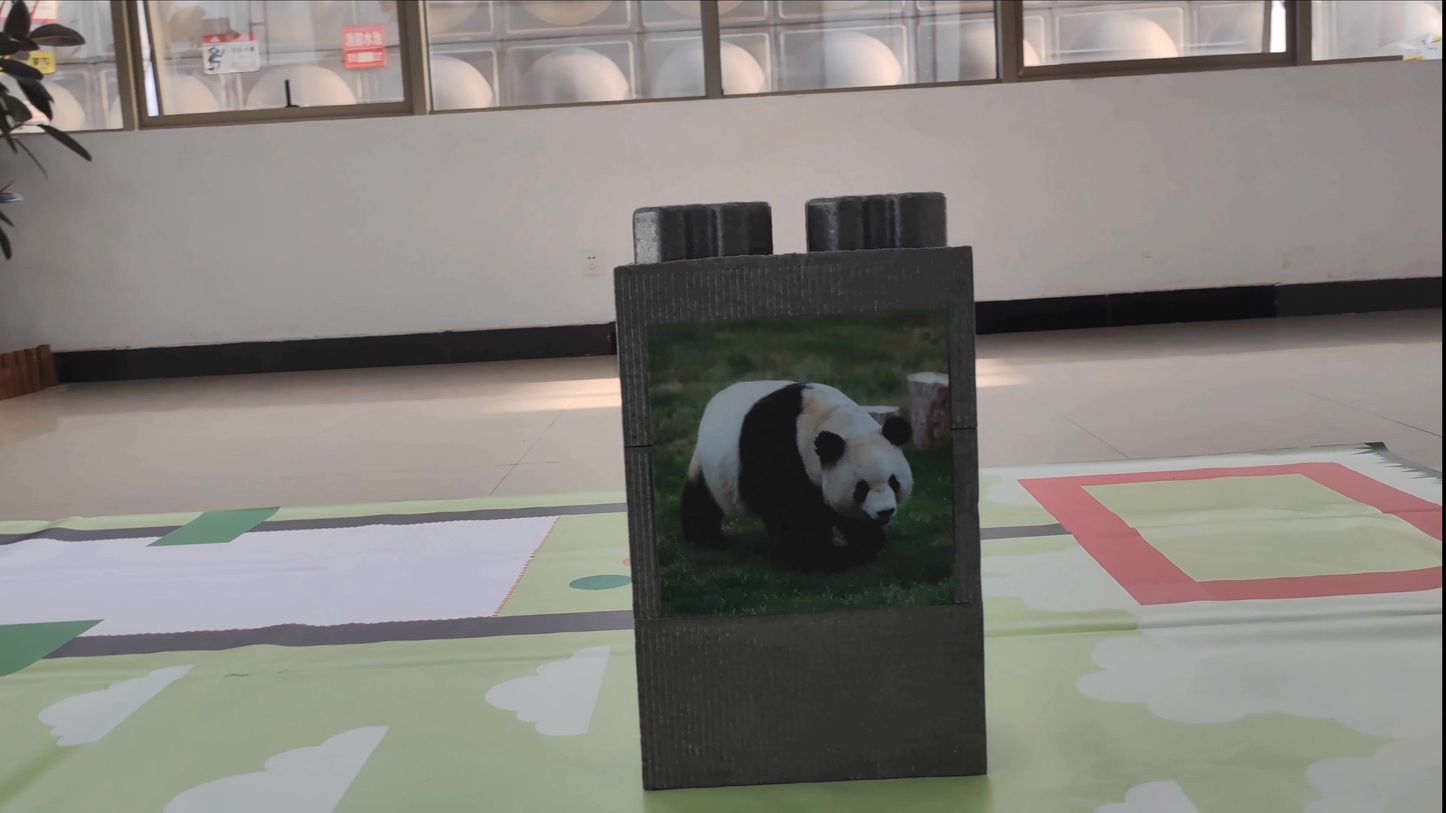panda: (664, 370, 916, 600)
